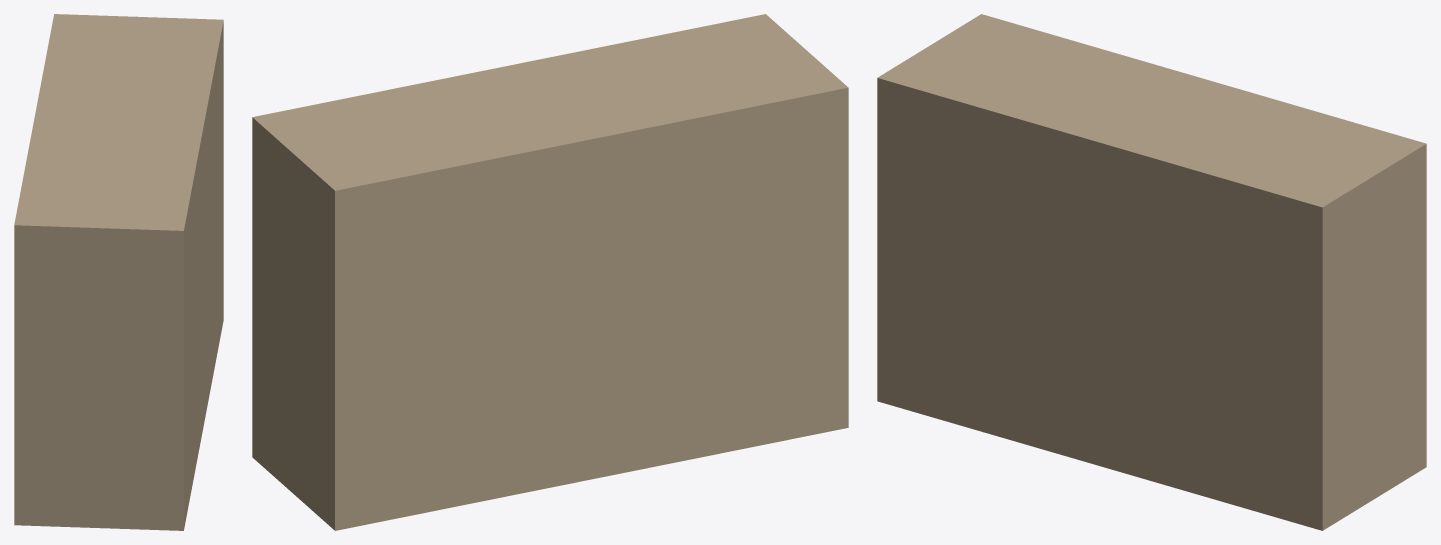
Rendered from bld_100469702.dae.
The picture shows the model from 3 angles, left to right: view 1: azimuth 30°, elevation 25°; view 2: azimuth 150°, elevation 25°; view 3: azimuth 270°, elevation 25°; orthographic projection. The views are drawn at different scales.
Visible parts, largest first — view 1: bld_100469702; view 2: bld_100469702; view 3: bld_100469702.
Boxes of the visible parts, bbox=[...] form: bld_100469702: bbox=[14, 14, 223, 530]; bld_100469702: bbox=[252, 14, 848, 530]; bld_100469702: bbox=[877, 14, 1426, 530].
Bounding box in the file's own units: 10.26 × 12.31 × 8.
